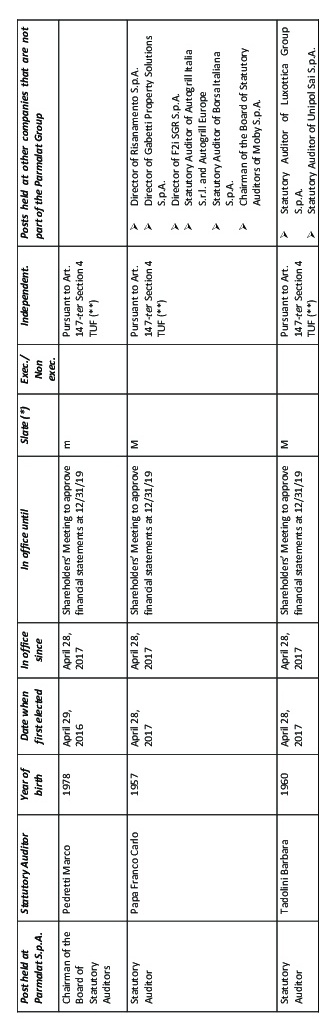table: (0, 0, 335, 1033)
